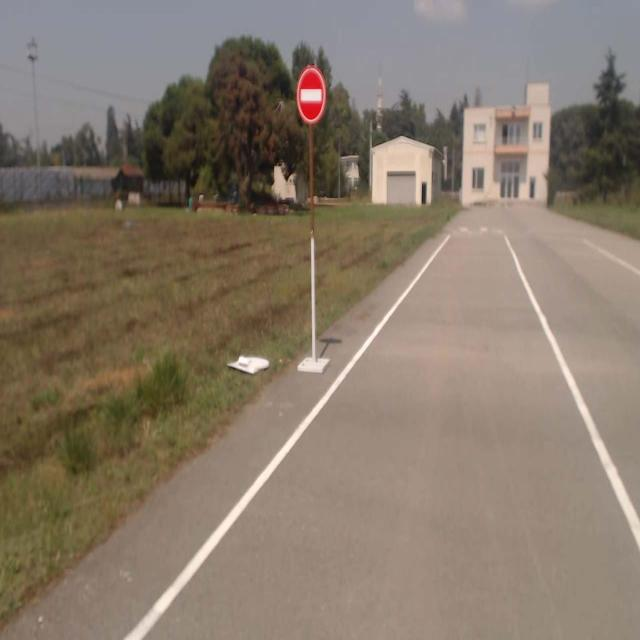girisyok: (296, 65, 326, 123)
